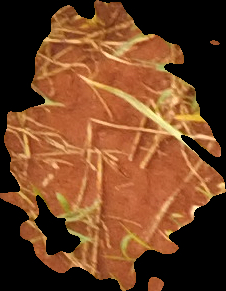soil: (2, 2, 224, 291)
